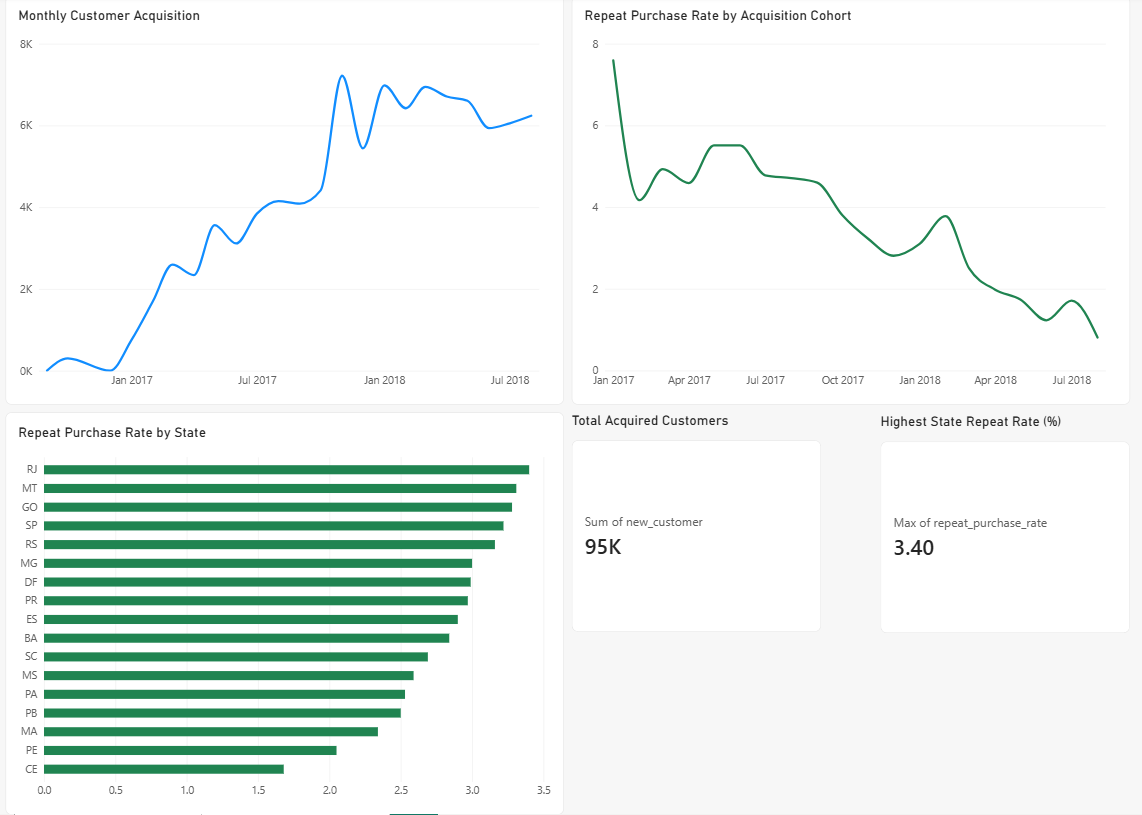

The page's visual inventory and layout, read from the dashboard file:
{"tool":"powerbi","page":{"name":"Customer Retention","canvas":[1920,1080],"ordinal":0},"visuals":[{"type":"lineChart","title":"Monthly Customer Acquisition","fields":{"Category":["monthly_customer_acquisition.acquisition_month"],"Y":["Sum(monthly_customer_acquisition.new_customer)"]},"box":[10.3,0,736.9,539.3],"z":0},{"type":"clusteredBarChart","title":"Repeat Purchase Rate by State","fields":{"Category":["repeat_rate_by_state.customer_state"],"Y":["Sum(repeat_rate_by_state.repeat_purchase_rate)"]},"box":[10,549,737,531],"z":1000},{"type":"lineChart","title":"Repeat Purchase Rate by Acquisition Cohort","fields":{"Category":["repeat_rate_by_cohort.cohort_month"],"Y":["Sum(repeat_rate_by_cohort.repeat_rate)"]},"box":[757,0,737,539],"z":2000},{"type":"cardVisual","title":"Total Acquired Customers","fields":{"Data":["Sum(monthly_customer_acquisition.new_customer)"]},"box":[757.5,549.6,329.3,290.2],"z":3000},{"type":"cardVisual","title":"Highest State Repeat Rate (%)","fields":{"Data":["Max(repeat_rate_by_state.repeat_purchase_rate)"]},"box":[1165,551.6,329.3,290.2],"z":4000}]}

Visuals, with their boxes on the page's 1920x1080 design canvas (x1, y1, x2, y2). These are canvas units, not pixel positions in the 1142x815 screenshot, which may show the page scaled, cropped or inside an application window:
"Monthly Customer Acquisition" lineChart: left=10, top=0, right=747, bottom=539
"Repeat Purchase Rate by State" clusteredBarChart: left=10, top=549, right=747, bottom=1080
"Repeat Purchase Rate by Acquisition Cohort" lineChart: left=757, top=0, right=1494, bottom=539
"Total Acquired Customers" cardVisual: left=758, top=550, right=1087, bottom=840
"Highest State Repeat Rate (%)" cardVisual: left=1165, top=552, right=1494, bottom=842
